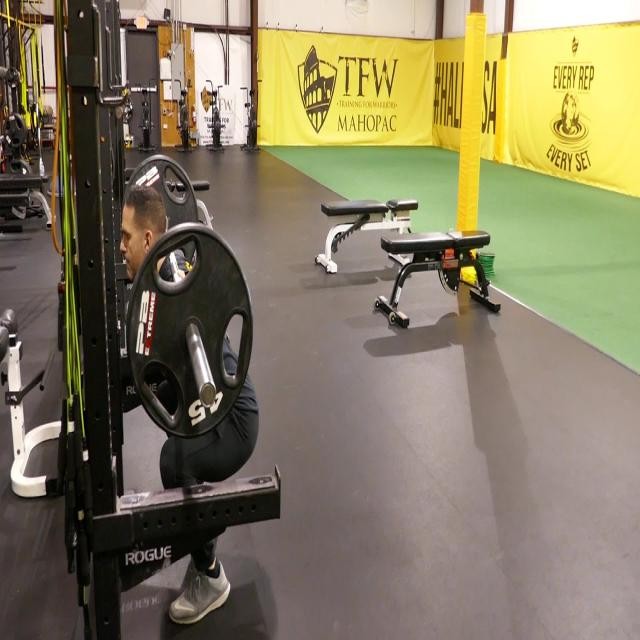squat: (105, 133, 273, 640)
